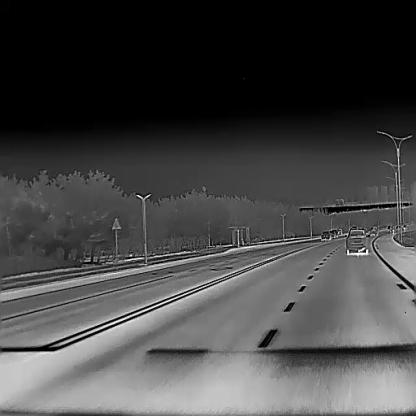car: (344, 226, 369, 254), (321, 230, 330, 240), (330, 229, 338, 237), (370, 226, 377, 234), (337, 228, 343, 235), (365, 229, 370, 236)
